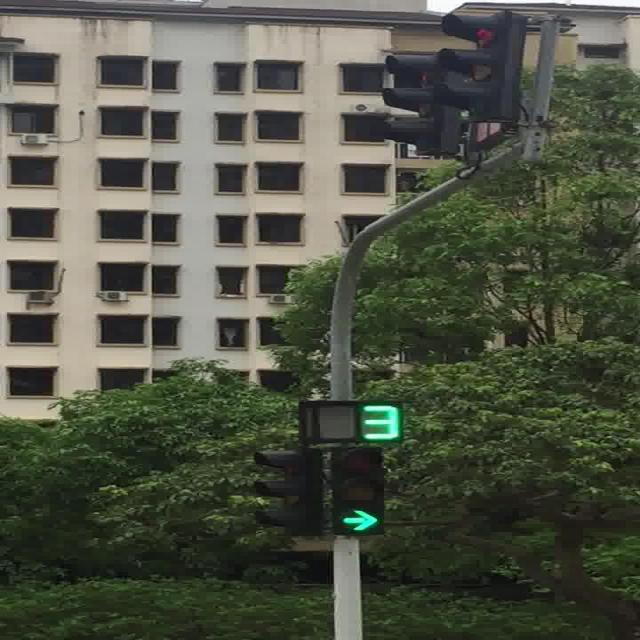traffic light: (381, 12, 524, 146), (440, 12, 526, 124), (382, 52, 462, 156), (254, 447, 322, 537), (330, 445, 385, 537), (357, 403, 403, 443)
